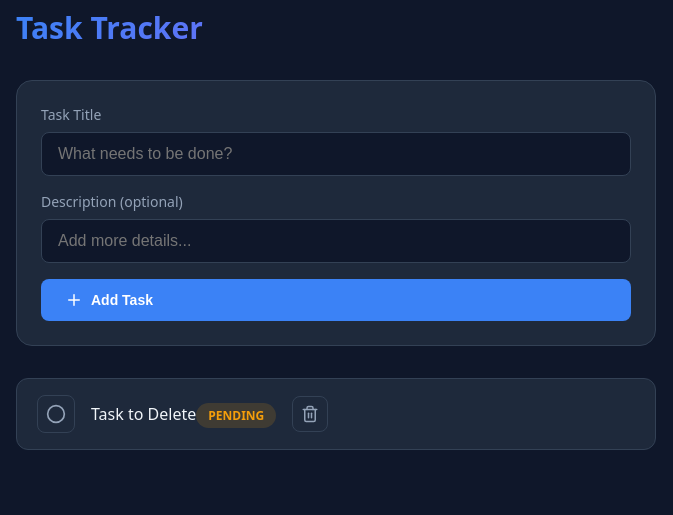
Scenario: App › should delete task when delete button clicked
Expected: the text "Task to Delete" is shown, [91,403,196,425]
Click the button named "delete": point(310, 414) [292,396,328,432]
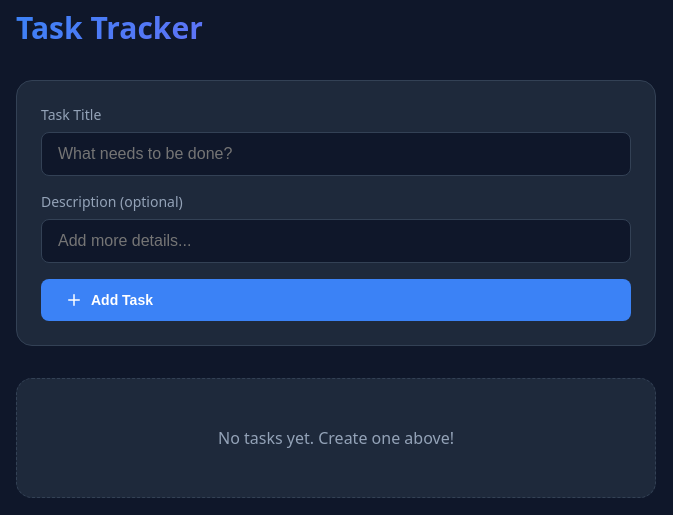
Expected: the text "Task to Delete" is gone
